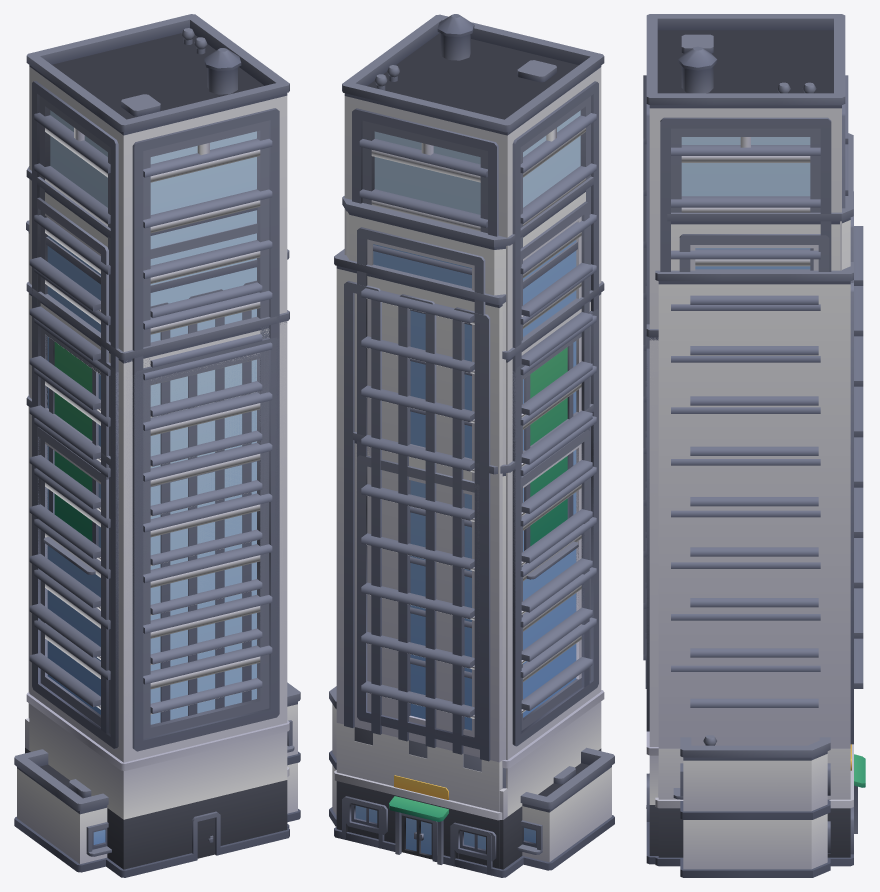
The model's file is kenney-city-kit-commercial.glb.
3 renders of one model, left to right at view 1: azimuth 30°, elevation 25°; view 2: azimuth 150°, elevation 25°; view 3: azimuth 270°, elevation 25°, orthographic. The views are drawn at different scales.
Visible parts, largest first — view 1: building-skyscraper-d, building-skyscraper-c, building-skyscraper-b, building-skyscraper-e, building-skyscraper-a, building-e; view 2: building-skyscraper-e, building-skyscraper-d, building-skyscraper-b, building-skyscraper-a, building-skyscraper-c, building-e; view 3: building-skyscraper-e, building-skyscraper-d, building-skyscraper-b, building-e, building-skyscraper-c, building-skyscraper-a.
Part boxes in pixels (<box>): building-skyscraper-d: <box>26,14,289,877</box>; building-skyscraper-c: <box>26,281,289,877</box>; building-skyscraper-b: <box>26,166,262,729</box>; building-skyscraper-e: <box>26,220,289,828</box>; building-skyscraper-a: <box>25,394,262,867</box>; building-e: <box>14,682,300,872</box>; building-skyscraper-e: <box>334,241,578,876</box>; building-skyscraper-d: <box>342,14,604,864</box>; building-skyscraper-b: <box>339,176,593,877</box>; building-skyscraper-a: <box>338,404,593,877</box>; building-skyscraper-c: <box>389,281,604,873</box>; building-e: <box>329,686,614,870</box>; building-skyscraper-e: <box>655,191,853,866</box>; building-skyscraper-d: <box>643,14,865,855</box>; building-skyscraper-b: <box>645,133,863,856</box>; building-e: <box>673,735,830,877</box>; building-skyscraper-c: <box>643,324,865,864</box>; building-skyscraper-a: <box>645,442,863,707</box>.
Bounding box in the file's own units: 13.12 × 43.76 × 11.1.
Materials: 1 (1 with a texture image).
